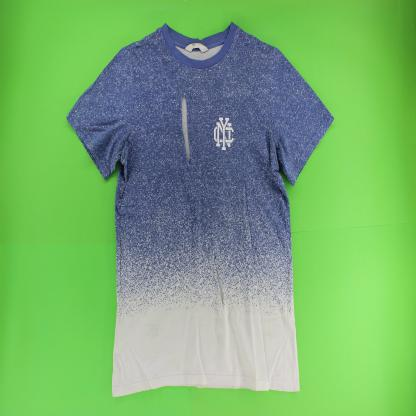hole: (180, 92, 192, 165), (213, 251, 225, 308)
